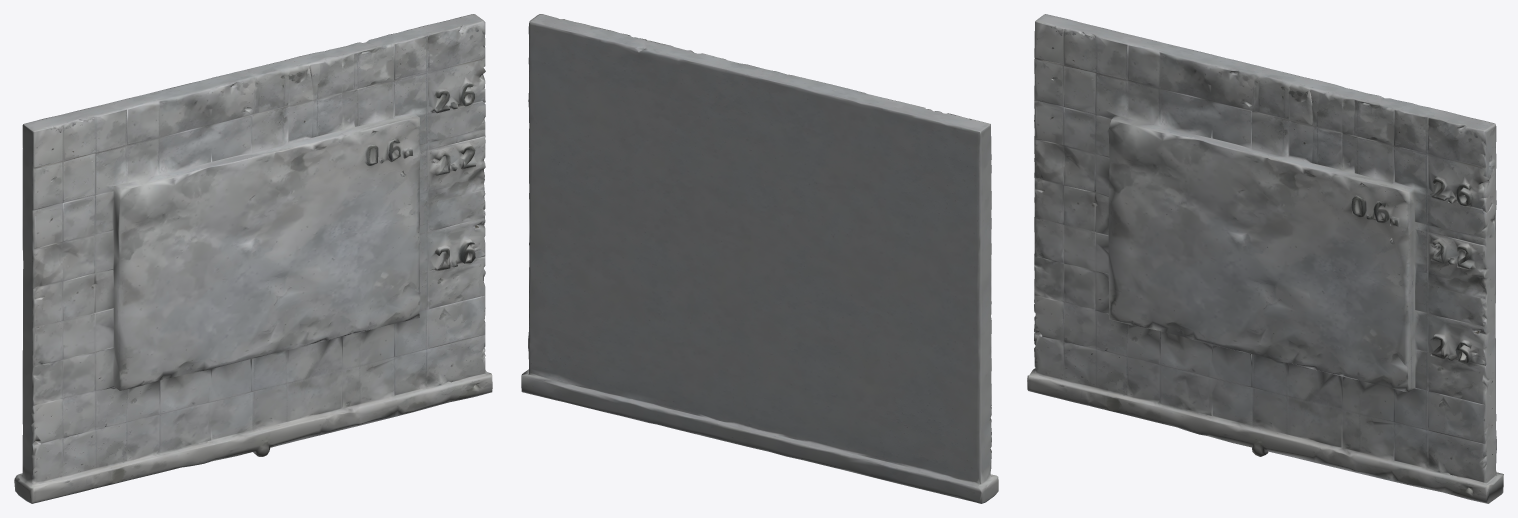
File: level1-sealed-wall.glb
3 renders of one model, left to right at view 1: azimuth 30°, elevation 25°; view 2: azimuth 150°, elevation 25°; view 3: azimuth 330°, elevation 25°, orthographic.
Parts seen in each view (by area): view 1: tripo_node_ee3e8cd7-8df0-44dc-82e5-9f3c532a9ef2; view 2: tripo_node_ee3e8cd7-8df0-44dc-82e5-9f3c532a9ef2; view 3: tripo_node_ee3e8cd7-8df0-44dc-82e5-9f3c532a9ef2.
Part boxes in pixels (x1=…): tripo_node_ee3e8cd7-8df0-44dc-82e5-9f3c532a9ef2: x1=14, y1=14, x2=492, y2=503; tripo_node_ee3e8cd7-8df0-44dc-82e5-9f3c532a9ef2: x1=521, y1=14, x2=998, y2=503; tripo_node_ee3e8cd7-8df0-44dc-82e5-9f3c532a9ef2: x1=1027, y1=14, x2=1503, y2=503.
Bounding box in the file's own units: 0.9788 × 0.769 × 0.0813.
Materials: 1 (1 with a texture image).
